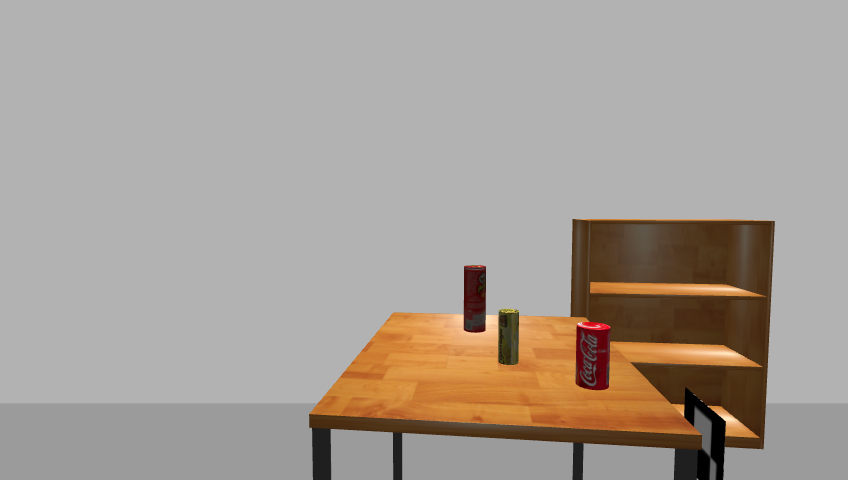aruco marker: (679, 388, 730, 480)
biscuits pack: (498, 309, 520, 367)
bookshelf: (566, 216, 782, 456)
coke can: (574, 322, 613, 391)
dinner table: (304, 311, 702, 480)
pringles can: (460, 264, 488, 334)
